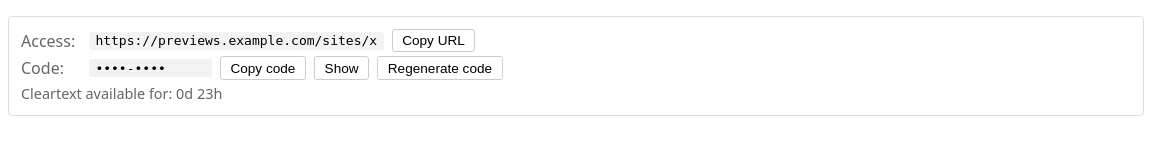
Test case: AccessStrip › masks the passcode until Show is clicked
Expected: the text named "passcode" reads "••••-••••", [95, 61, 166, 76]
Click the button "Show".
click(342, 68)  # box [314, 56, 369, 80]
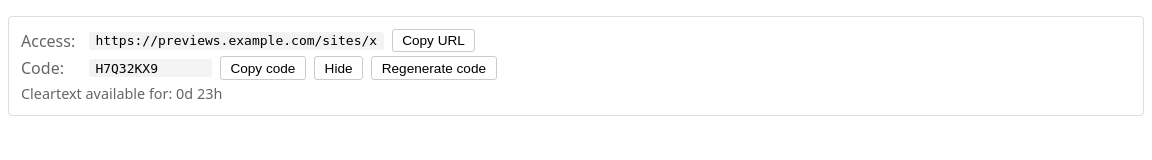
Expected: the text named "passcode" reads "H7Q32KX9", [95, 61, 158, 76]
Click the button "Hide".
click(339, 68)  # box [314, 56, 363, 80]
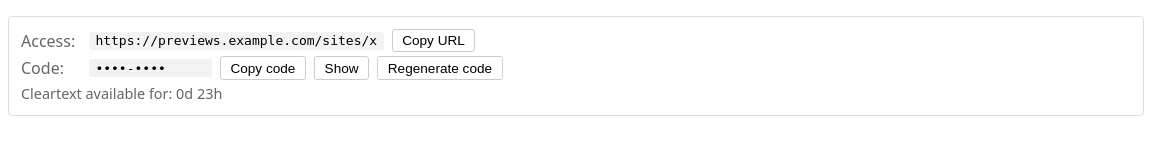
Expected: the text named "passcode" reads "••••-••••", [95, 61, 166, 76]
